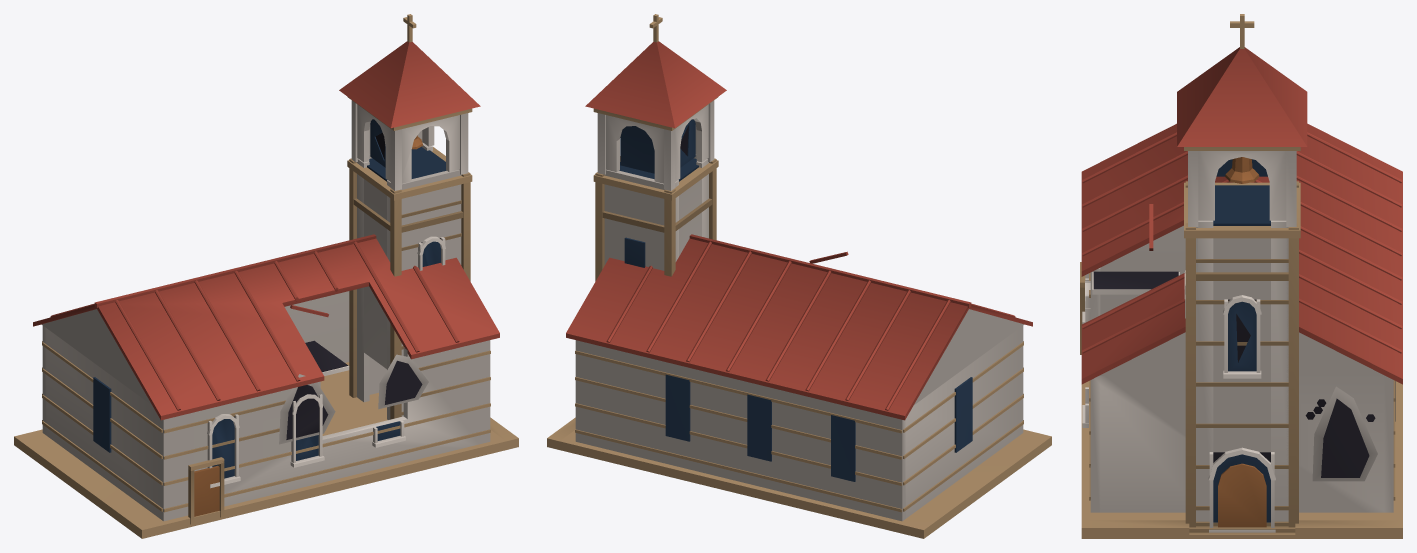
Rendered from bld.church.w5.lod2.glb.
3 renders of one model, left to right at view 1: azimuth 30°, elevation 25°; view 2: azimuth 150°, elevation 25°; view 3: azimuth 270°, elevation 25°, orthographic. The views are drawn at different scales.
Visible parts, largest first — view 1: body, roof; view 2: body, roof; view 3: body, roof, door_front.
Boxes of the visible parts, x1=… form: body: x1=14, y1=14, x2=518, y2=538; roof: x1=33, y1=41, x2=499, y2=420; body: x1=547, y1=14, x2=1051, y2=538; roof: x1=566, y1=41, x2=1032, y2=420; body: x1=1080, y1=14, x2=1402, y2=538; roof: x1=1081, y1=47, x2=1402, y2=384; door_front: x1=1218, y1=463, x2=1266, y2=527.
Size of the model in its own units: 18 by 18.08 by 10.65.
